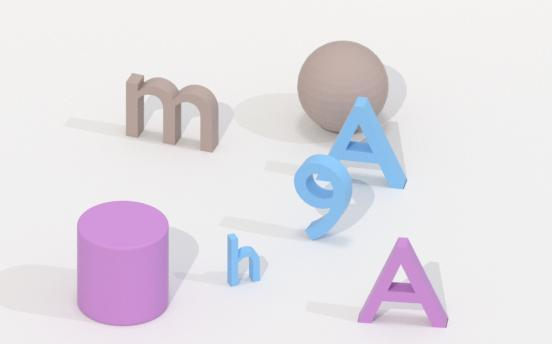chu_khoi: (358, 238, 447, 326), (125, 74, 219, 151), (330, 97, 406, 188), (227, 234, 260, 285)
hinh_cau: (297, 41, 387, 132)
so_khoi: (294, 155, 351, 239)
tru: (77, 201, 168, 324)
